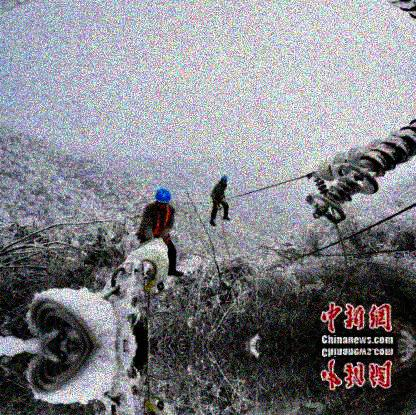helmet: (155, 188, 173, 211)
